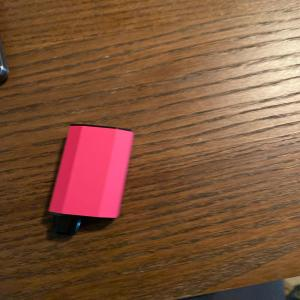Swift-E-Ciggirate: (43, 124, 146, 239)
